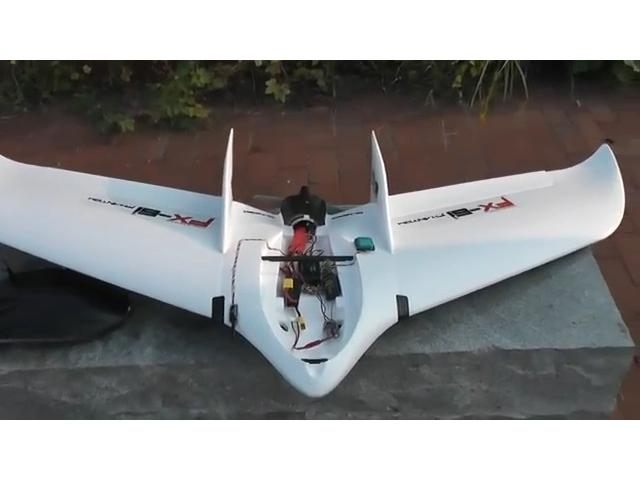Anti-Drone: (0, 119, 628, 407)
